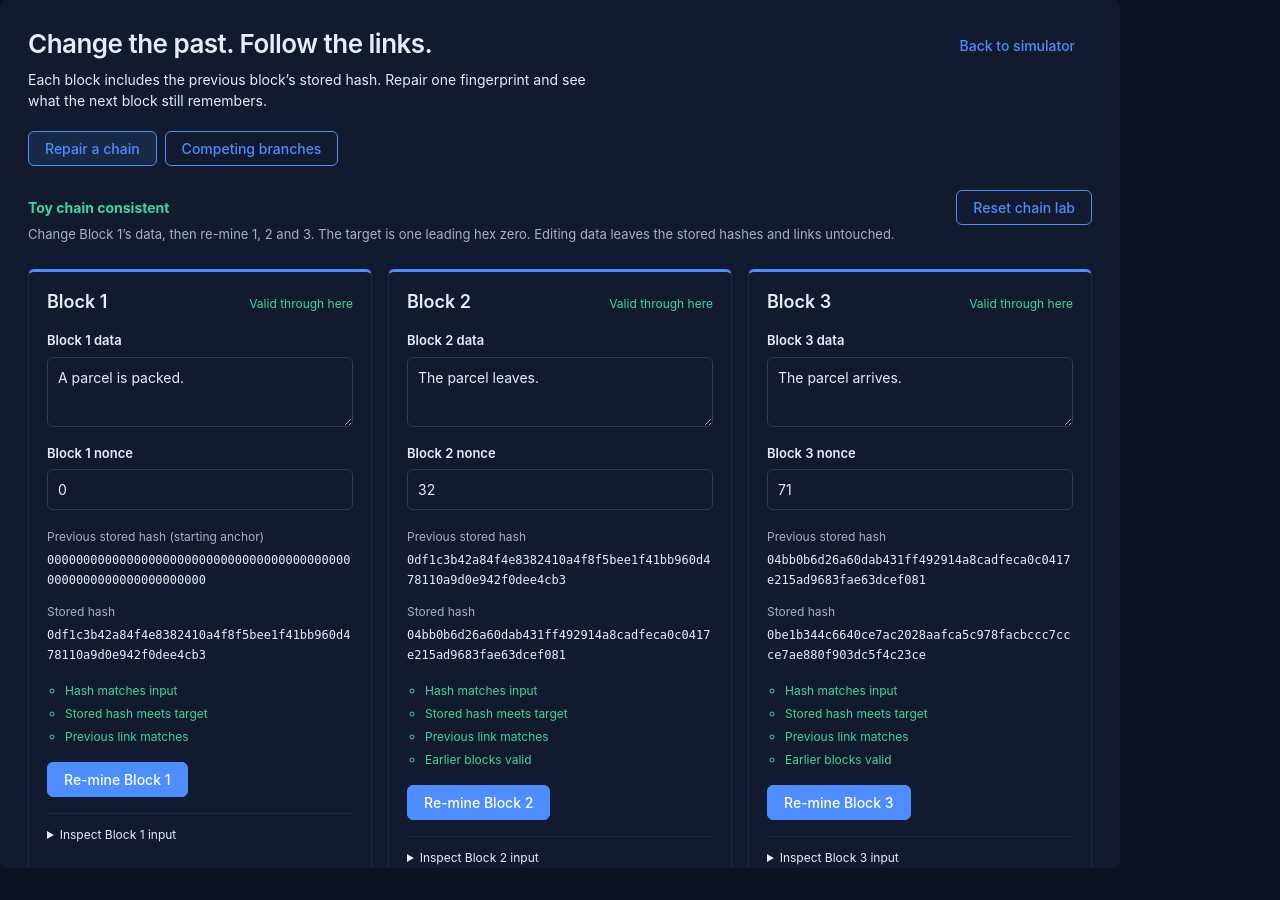
Test: ChainLab interaction › explains invalid nonce input and restores the deterministic sample
Step 1. Replace the text in the field labelled "Block 1 nonce" with "1.5" → (200, 490), box [47,469,353,510]
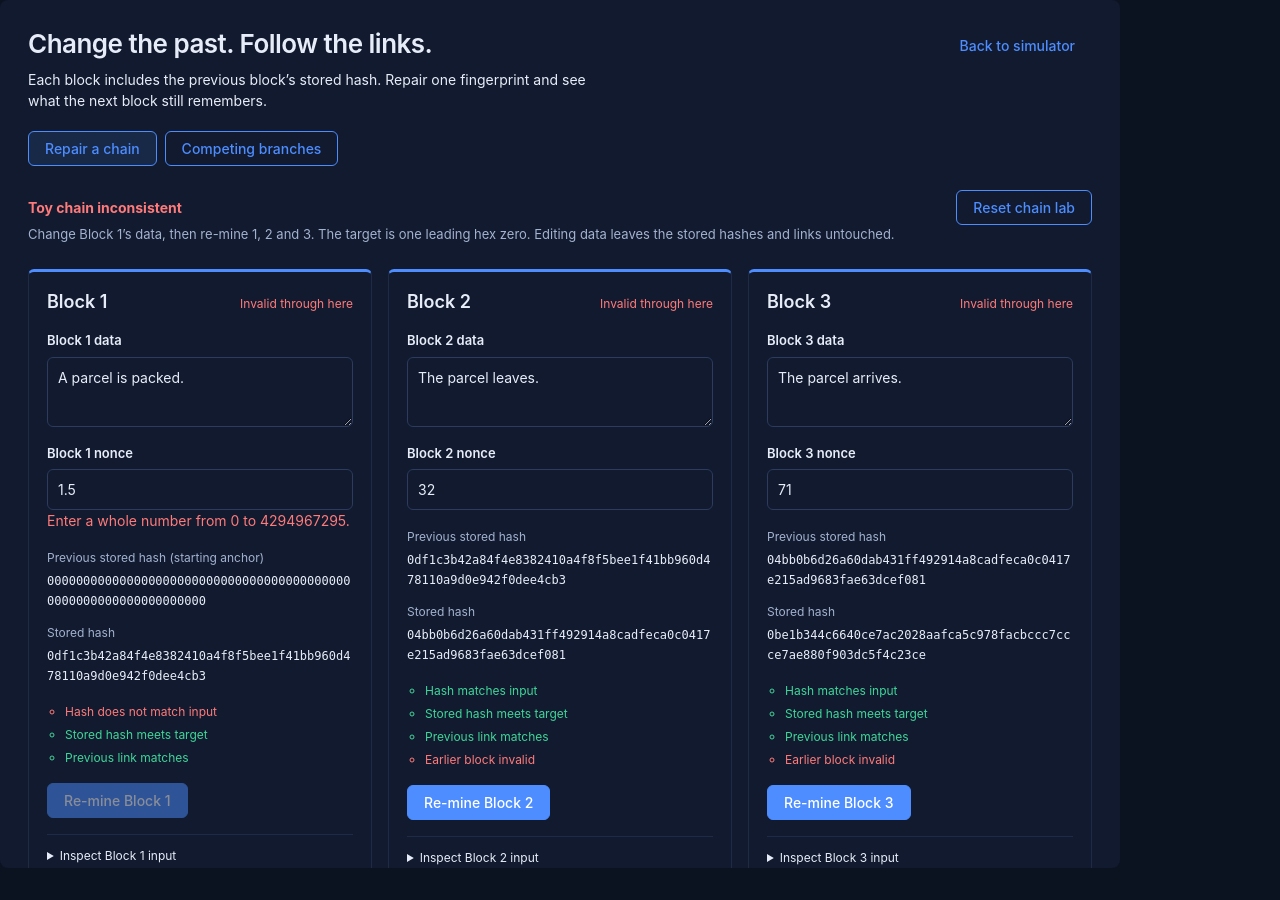
Now the message shows "whole number", box [47,512,350,529]
Now the button "Re-mine Block 1" is disabled, box [47,783,188,818]
Step 2. Click the button "Reset chain lab" → (1024, 208), box [956,190,1092,225]
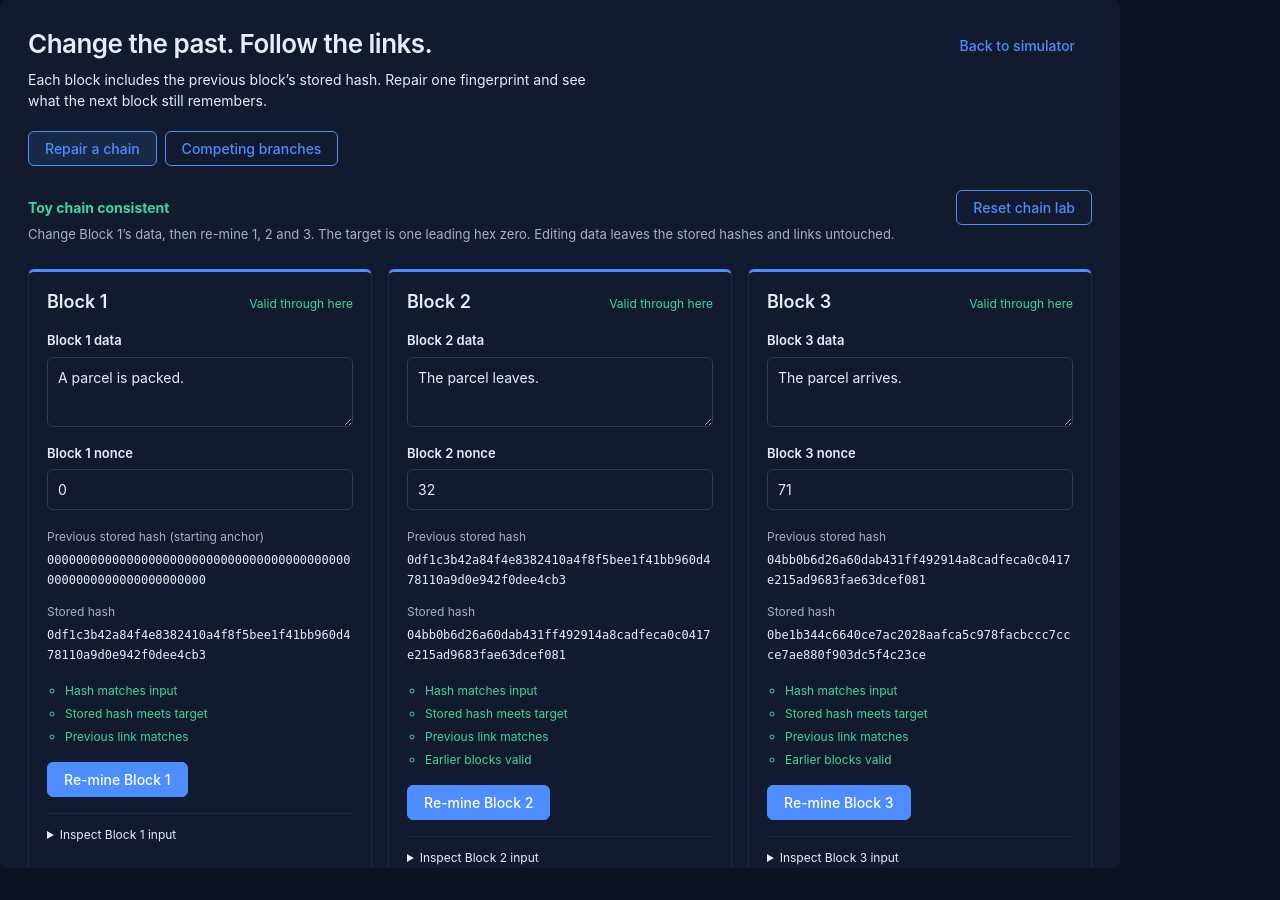
Now the message "Enter a whole number from 0 to 4294967295." is gone
Now the field labelled "Block 1 nonce" holds "0", box [47,469,353,510]
Now the text "Toy chain consistent" is shown, box [28,199,169,216]
